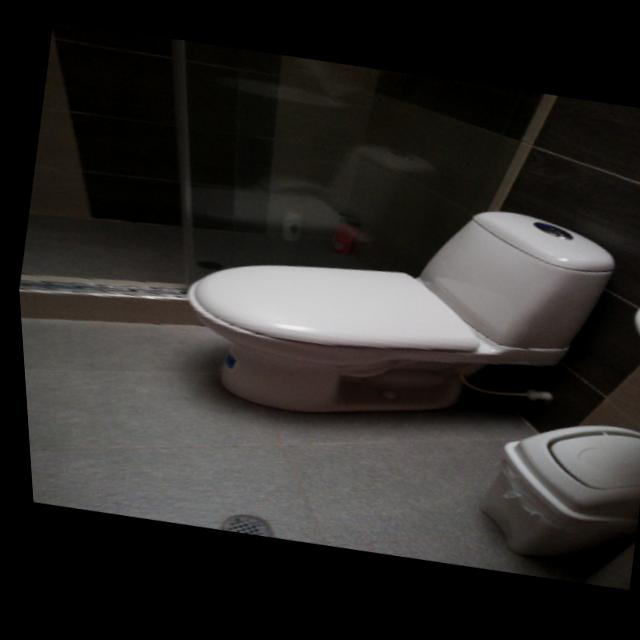toilet: (157, 153, 630, 476)
